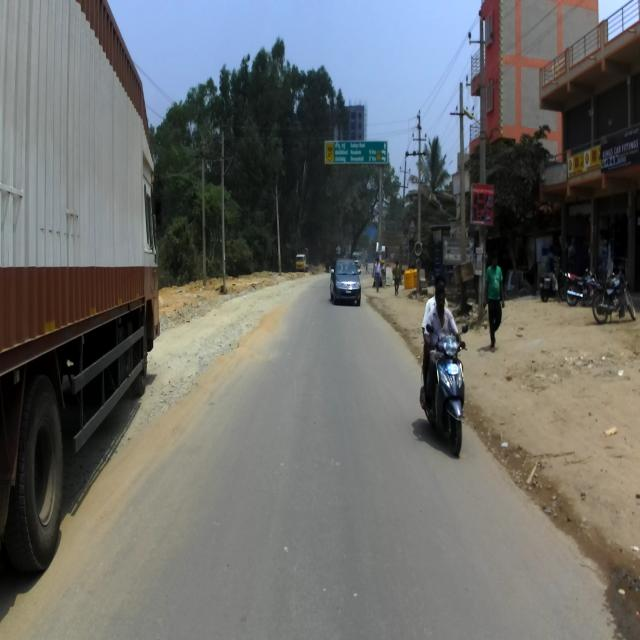car ahead at: (329, 252, 365, 312)
motorcycle ahead at: (416, 326, 474, 461)
truck ahead at: (0, 0, 169, 609)
